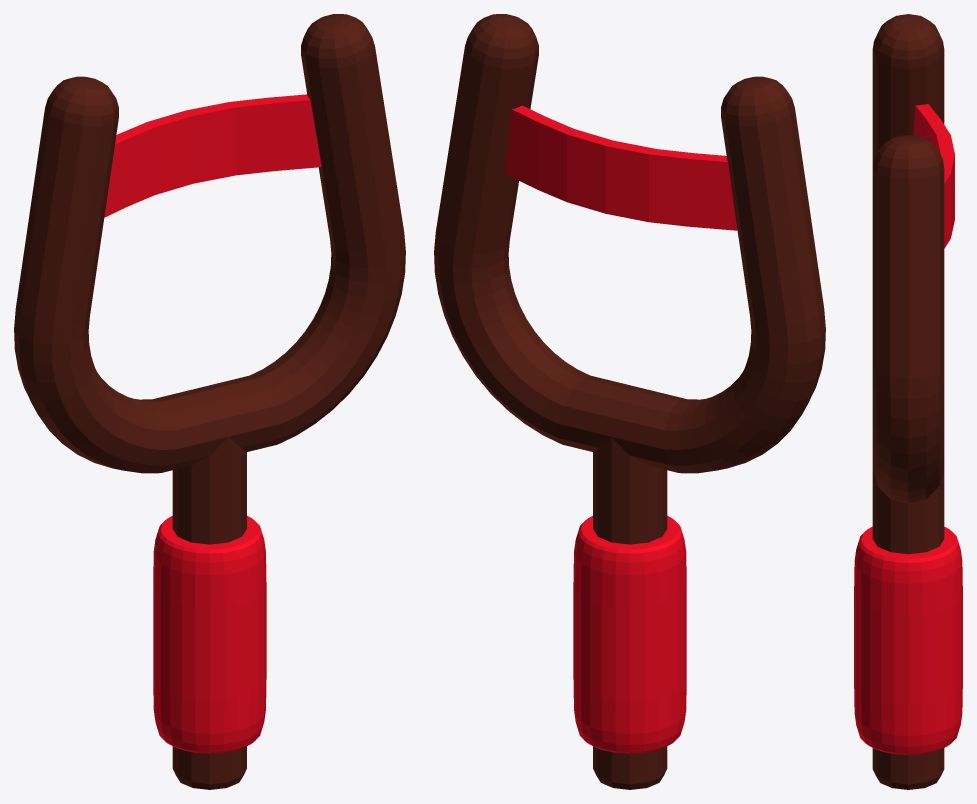
File: slingshot_teamRed.obj
The picture shows the model from 3 angles, left to right: view 1: azimuth 30°, elevation 25°; view 2: azimuth 150°, elevation 25°; view 3: azimuth 270°, elevation 25°; orthographic projection. The views are drawn at different scales.
Visible parts, largest first — view 1: slingshot_teamRed_Cube.417; view 2: slingshot_teamRed_Cube.417; view 3: slingshot_teamRed_Cube.417.
Part boxes in pixels (<box>): slingshot_teamRed_Cube.417: <box>14,14,405,789</box>; slingshot_teamRed_Cube.417: <box>434,14,825,789</box>; slingshot_teamRed_Cube.417: <box>854,14,962,789</box>.
Bounding box in the file's own units: 0.607 × 1.11 × 0.156.
